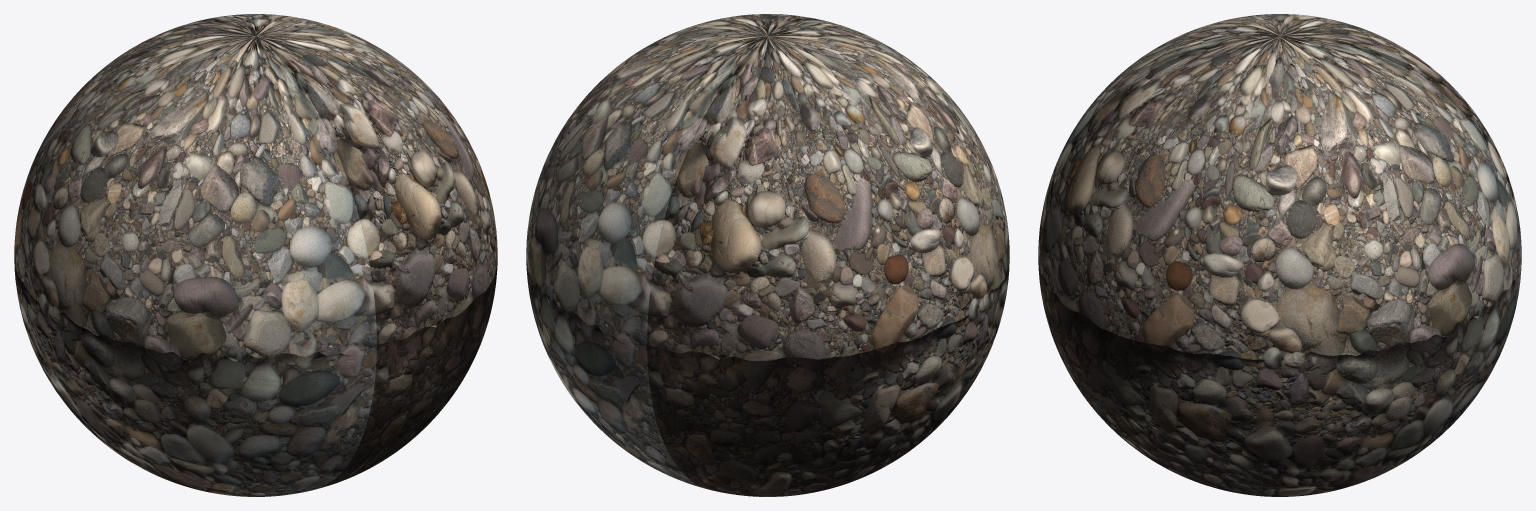
The model's file is ganges_river_pebbles_4k.fbx.
3 views of the same model, side by side, from view 1: azimuth 30°, elevation 25°; view 2: azimuth 150°, elevation 25°; view 3: azimuth 270°, elevation 25° (orthographic).
Visible parts, largest first — view 1: Sphere; view 2: Sphere; view 3: Sphere.
Boxes of the visible parts, bbox=[...] form: Sphere: bbox=[14, 14, 497, 496]; Sphere: bbox=[526, 14, 1009, 496]; Sphere: bbox=[1038, 14, 1521, 496].
Size of the model in its own units: 216 by 216 by 216.
1 material, 1 textured.
